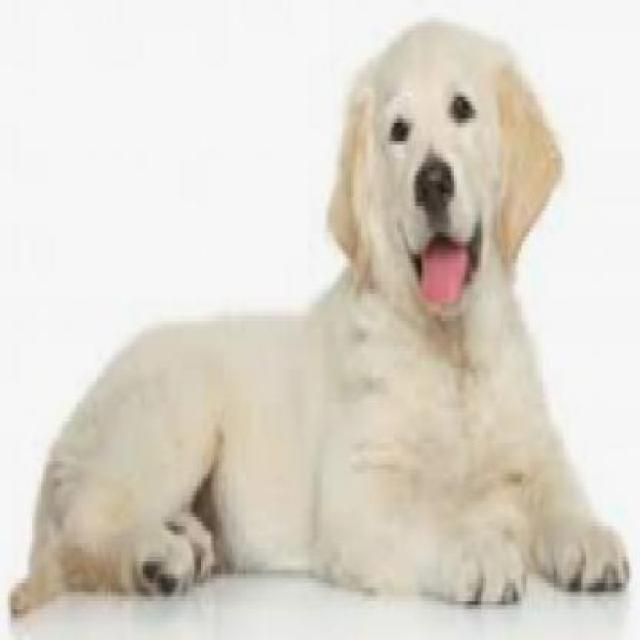Dog: (7, 22, 636, 636)
